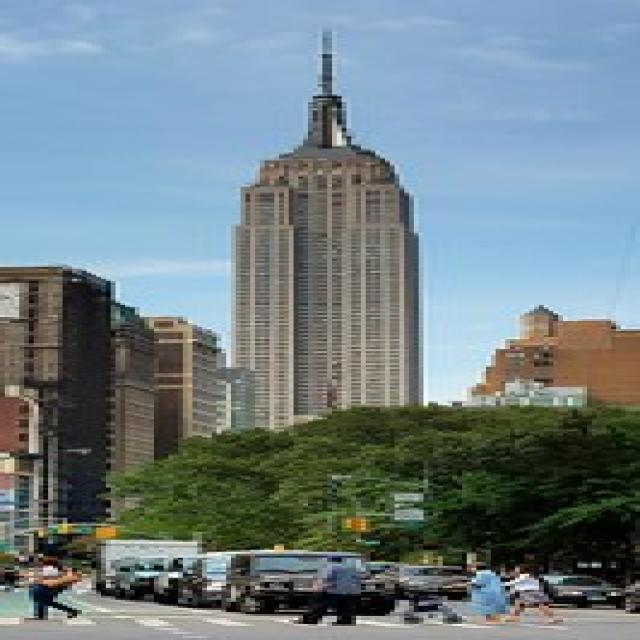Normal_building: (210, 140, 436, 422)
